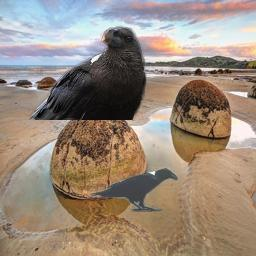Crow: (26, 25, 149, 120), (89, 167, 178, 212)
